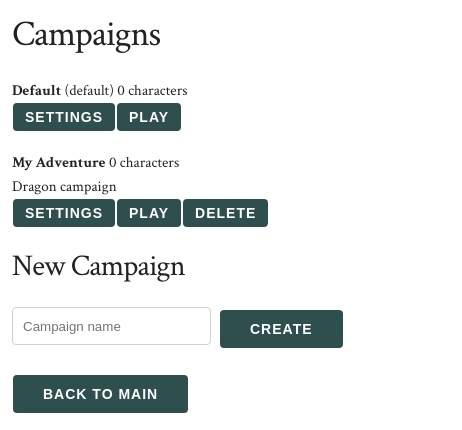
Test case: CampaignsScreen › asks for confirmation before deleting
The width and height of the screenshot is (462, 430).
Step 1. Click the button "Delete" → {"x": 226, "y": 213}, box [183,199,268,227]
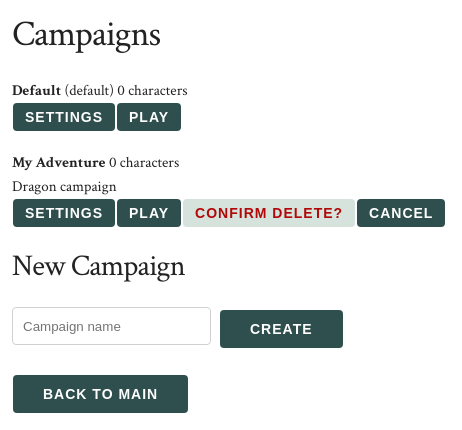
Now the button "Confirm Delete?" is shown, box [183,199,355,227]
